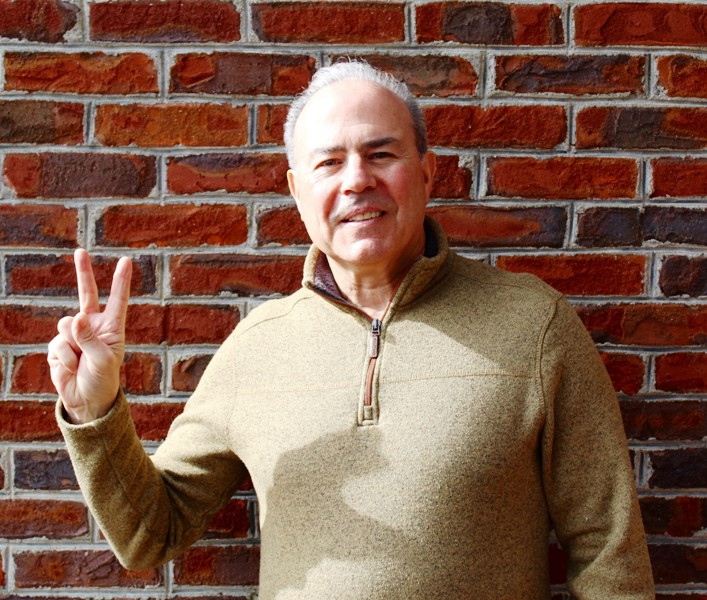peacesign: (42, 243, 143, 422)
